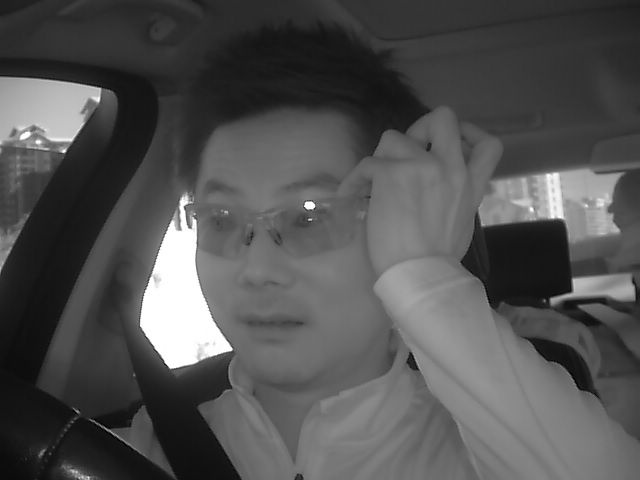hand: (351, 106, 498, 290)
